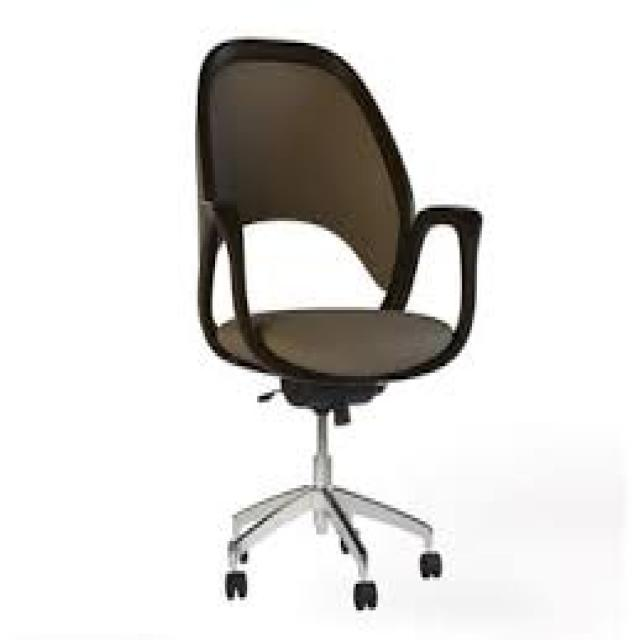chair: (133, 3, 519, 640)
